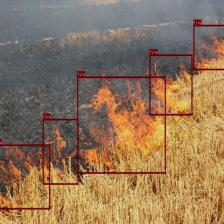fire: (77, 76, 166, 174), (0, 144, 50, 209), (149, 54, 192, 115), (43, 118, 78, 184), (193, 24, 224, 70)
